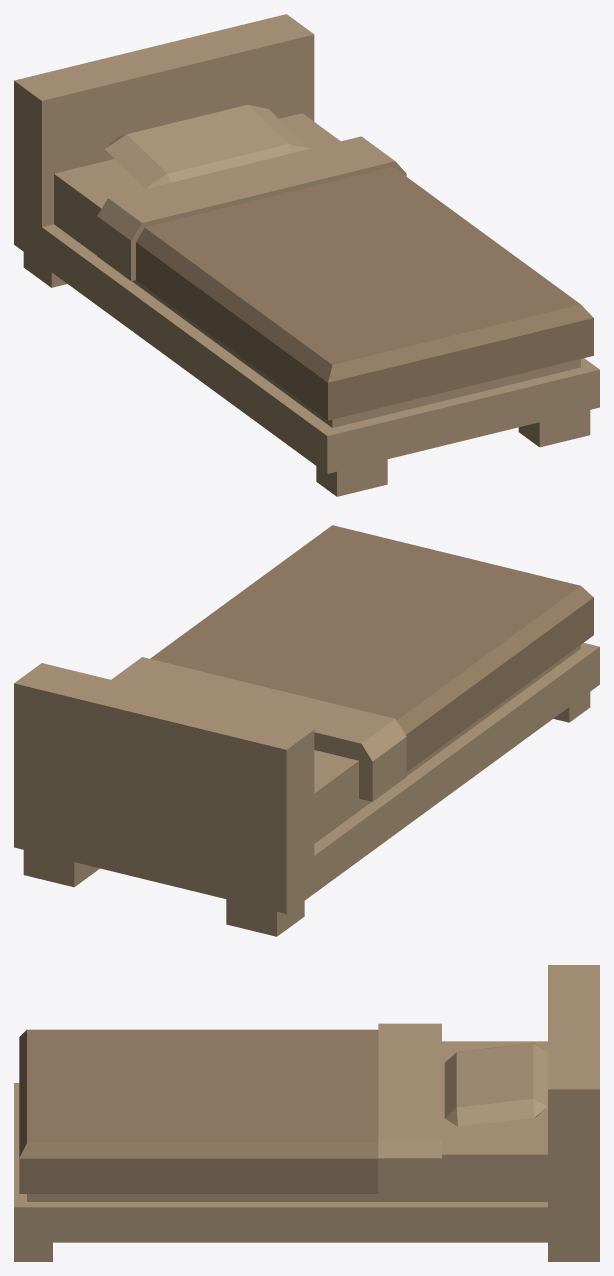
File: bedSingle.glb
3 views of the same model, one above another, from view 1: azimuth 30°, elevation 25°; view 2: azimuth 150°, elevation 25°; view 3: azimuth 270°, elevation 25° (orthographic). The views are drawn at different scales.
Parts seen in each view (by area): view 1: bedSingle(Clone), cover; view 2: bedSingle(Clone), cover; view 3: bedSingle(Clone), cover.
Part boxes in pixels (box(x1,y1,x2,y2)): bedSingle(Clone): box(14, 14, 599, 496); cover: box(136, 167, 593, 420); bedSingle(Clone): box(14, 643, 599, 936); cover: box(150, 525, 593, 771); bedSingle(Clone): box(14, 965, 599, 1261); cover: box(19, 1029, 378, 1193).
Size of the model in its own units: 0.571 by 0.375 by 1.12.
